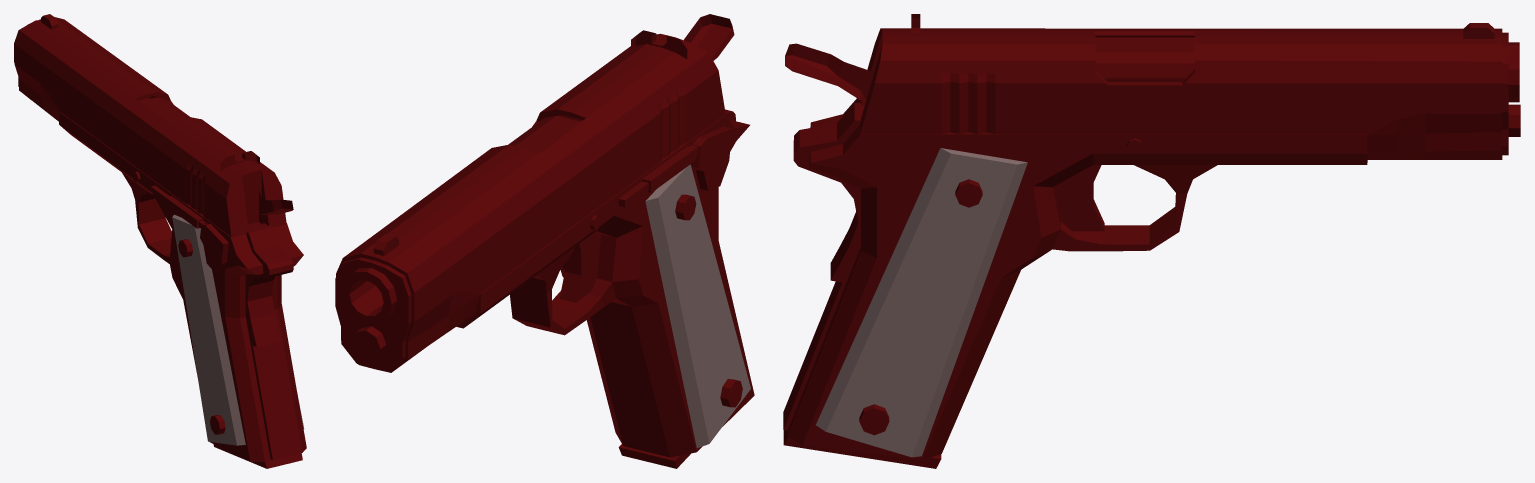
Rendered from m1911_red.glb.
The picture shows the model from 3 angles, left to right: view 1: azimuth 30°, elevation 25°; view 2: azimuth 150°, elevation 25°; view 3: azimuth 270°, elevation 25°; orthographic projection. The views are drawn at different scales.
Parts seen in each view (by area): view 1: Cube.001, Cube, Cube.007, Cube.006, Cube.010, Cube.009, Cube.003, Cube.008, Cylinder.001, Cube.013, Cube.011; view 2: Cube.001, Cube, Cube.007, Cube.005, Cube.002, Cube.004, Cube.010, Cube.009, Cube.008, Cube.003, Cylinder.001, Cylinder (+2 smaller); view 3: Cube.001, Cube, Cube.007, Cube.006, Cube.003, Cube.008, Cube.004, Cylinder.001, Cube.013, Cube.005.
Part boxes in pixels (left/top/right/bottom): Cube.001: left=14, top=17, right=286, bottom=237; Cube: left=59, top=111, right=306, bottom=461; Cube.007: left=172, top=214, right=304, bottom=445; Cube.006: left=245, top=222, right=297, bottom=459; Cube.010: left=200, top=223, right=228, bottom=272; Cube.009: left=150, top=185, right=206, bottom=228; Cube.003: left=139, top=97, right=189, bottom=122; Cube.008: left=258, top=192, right=293, bottom=224; Cylinder.001: left=133, top=171, right=225, bottom=434; Cube.013: left=213, top=444, right=302, bottom=468; Cube.011: left=220, top=151, right=259, bottom=170; Cube.001: left=336, top=33, right=725, bottom=372; Cube: left=456, top=114, right=754, bottom=457; Cube.007: left=645, top=164, right=750, bottom=448; Cube.005: left=335, top=257, right=411, bottom=370; Cube.002: left=341, top=268, right=396, bottom=324; Cube.004: left=559, top=232, right=601, bottom=302; Cube.010: left=690, top=126, right=732, bottom=190; Cube.009: left=618, top=145, right=698, bottom=207; Cube.008: left=684, top=14, right=734, bottom=60; Cube.003: left=508, top=116, right=580, bottom=153; Cylinder.001: left=590, top=194, right=742, bottom=407; Cylinder: left=351, top=326, right=386, bottom=360; Cube.001: left=860, top=28, right=1502, bottom=159; Cube: left=787, top=98, right=1367, bottom=460; Cube.007: left=816, top=148, right=1027, bottom=457; Cube.006: left=783, top=103, right=864, bottom=430; Cube.003: left=1095, top=37, right=1194, bottom=81; Cube.008: left=785, top=43, right=875, bottom=106; Cube.004: left=1054, top=165, right=1104, bottom=231; Cylinder.001: left=859, top=138, right=1142, bottom=435; Cube.013: left=783, top=430, right=941, bottom=468; Cube.005: left=1502, top=32, right=1508, bottom=155.
Bounding box in the file's own units: 0.0882 × 0.3134 × 0.485.
